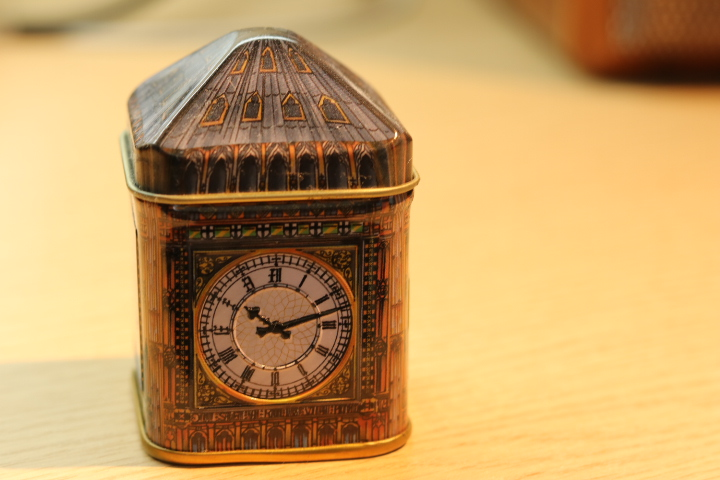Big Ben: (104, 22, 461, 472)
